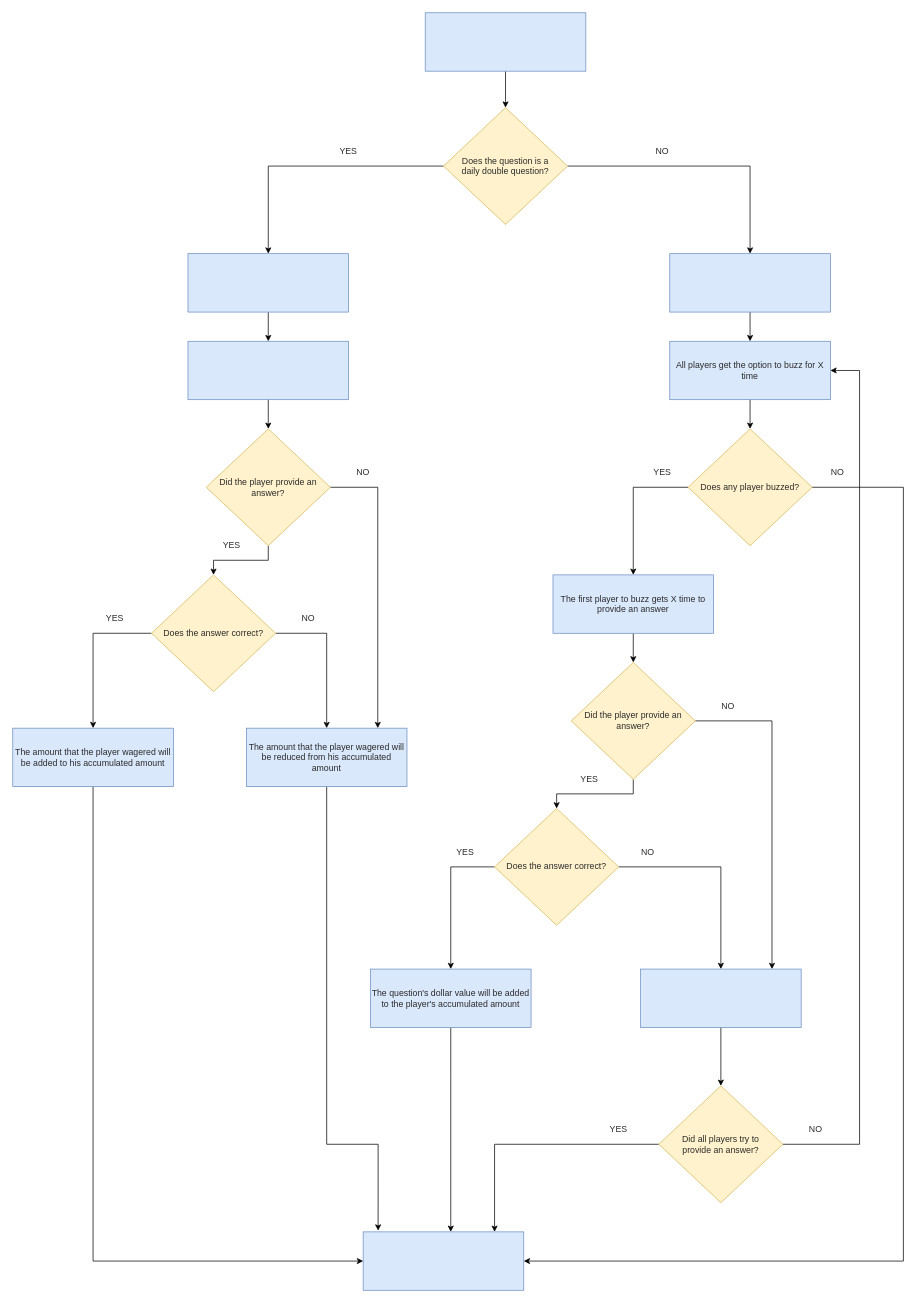
Some shapes in this 922 by 1303 pixel diagram are drawn without their labels. Each missing label, with the box of its shape:
All players have X time to read the question: (669, 253, 830, 312)
The answer is being revealed: (362, 1231, 524, 1290)
The player gets X time to read the question and provide an answer: (187, 341, 349, 400)
The player needs to select the amount to wager: (187, 253, 349, 312)
The player select category and dollar amount: (424, 12, 586, 71)
The question's dollar value will be reduced from the player's accumulated amount: (640, 968, 801, 1027)
